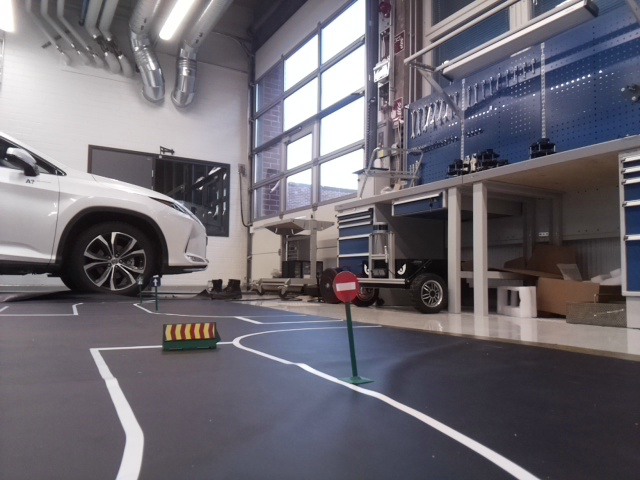ClosedRoadStand: (161, 320, 215, 338)
NoEntry: (330, 268, 359, 302)
